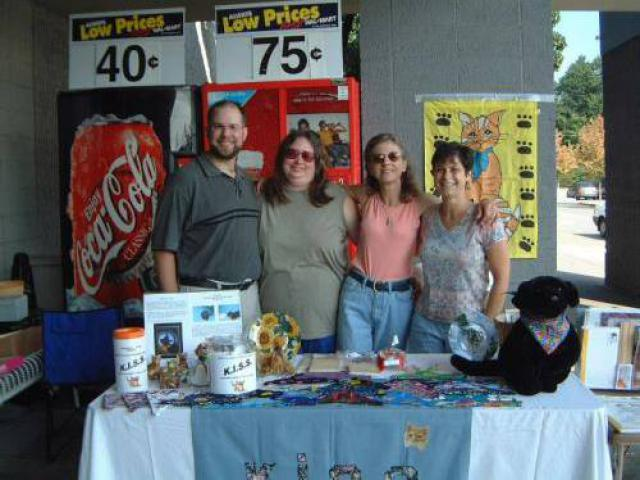cat: (481, 271, 581, 412)
